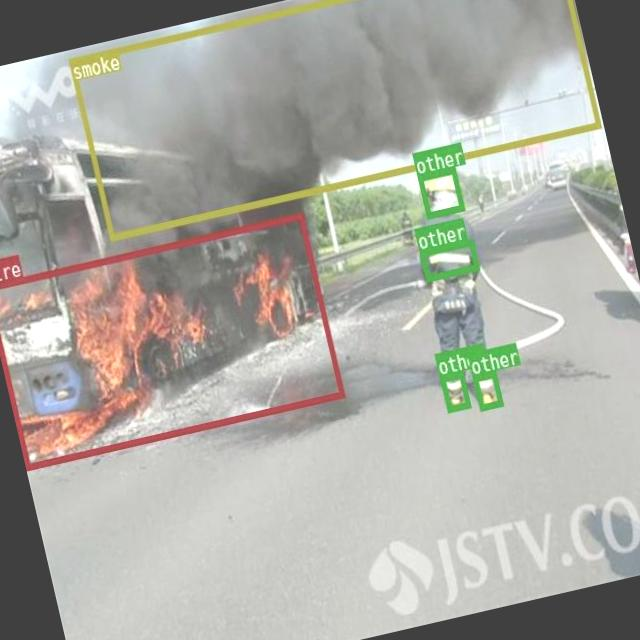fire: (0, 212, 342, 469)
smoke: (66, 0, 599, 239)
